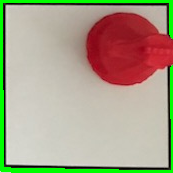Red Knight: (84, 9, 173, 88)
